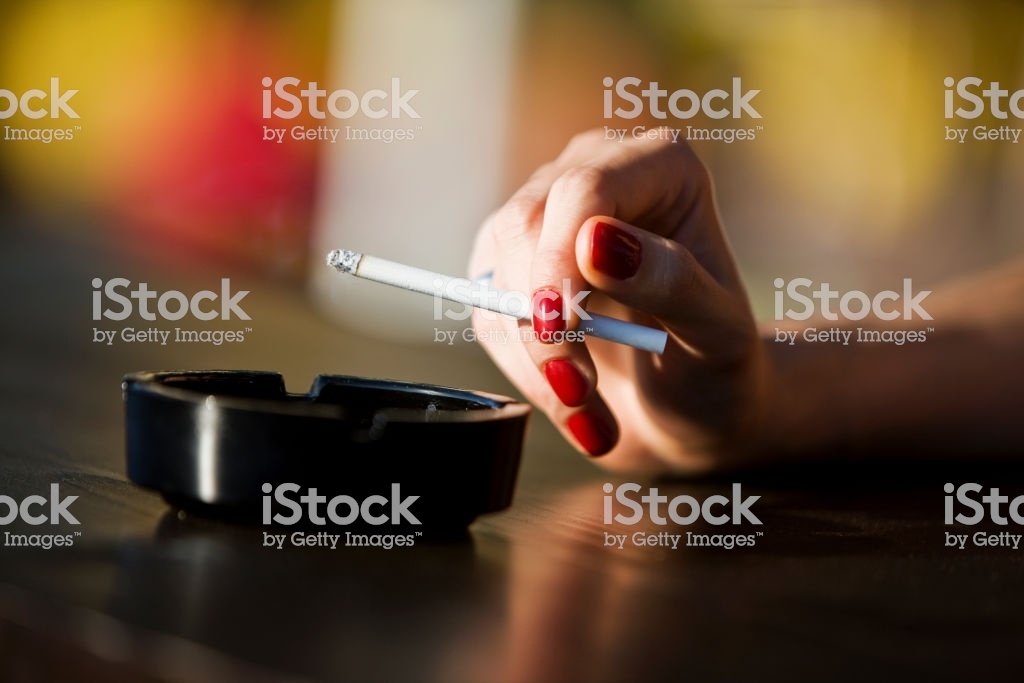sigaretta: (317, 242, 672, 353)
